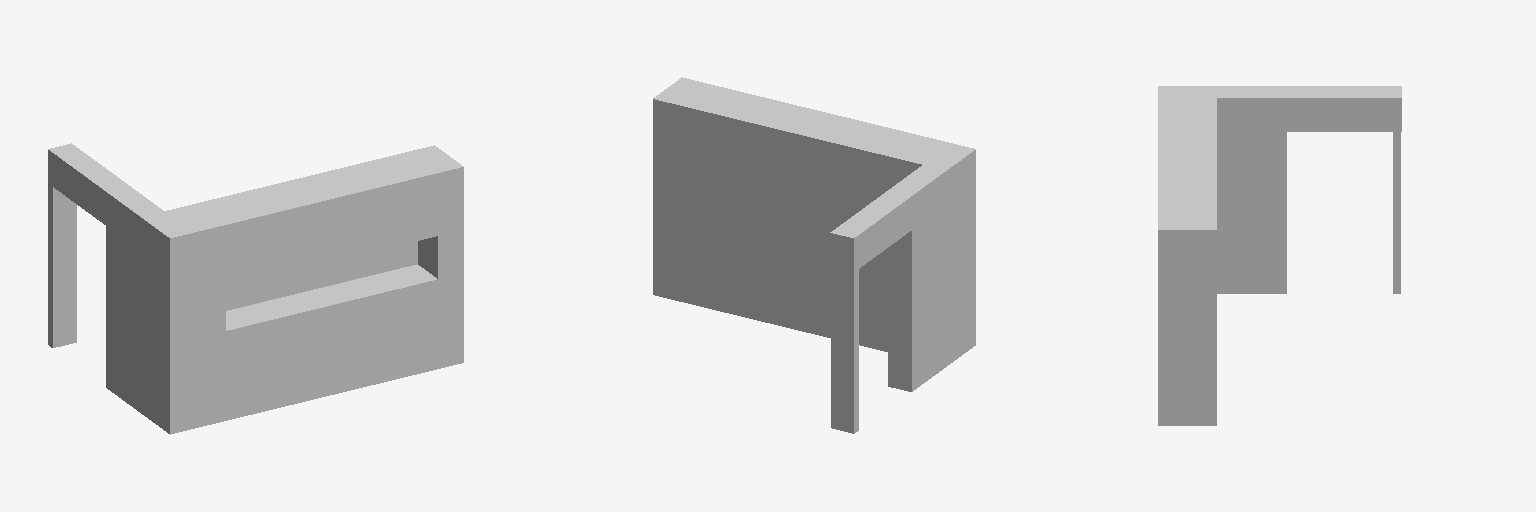
Rendered from baseAdentro.obj.
3 views of the same model, side by side, from view 1: azimuth 30°, elevation 25°; view 2: azimuth 150°, elevation 25°; view 3: azimuth 270°, elevation 25° (orthographic).
Parts seen in each view (by area): view 1: pCube20; view 2: pCube20; view 3: pCube20.
Boxes of the visible parts, <box> form: pCube20: <box>48,143,463,434</box>; pCube20: <box>653,77,975,433</box>; pCube20: <box>1158,86,1401,425</box>.
Bounding box in the file's own units: 394 × 251 × 284.